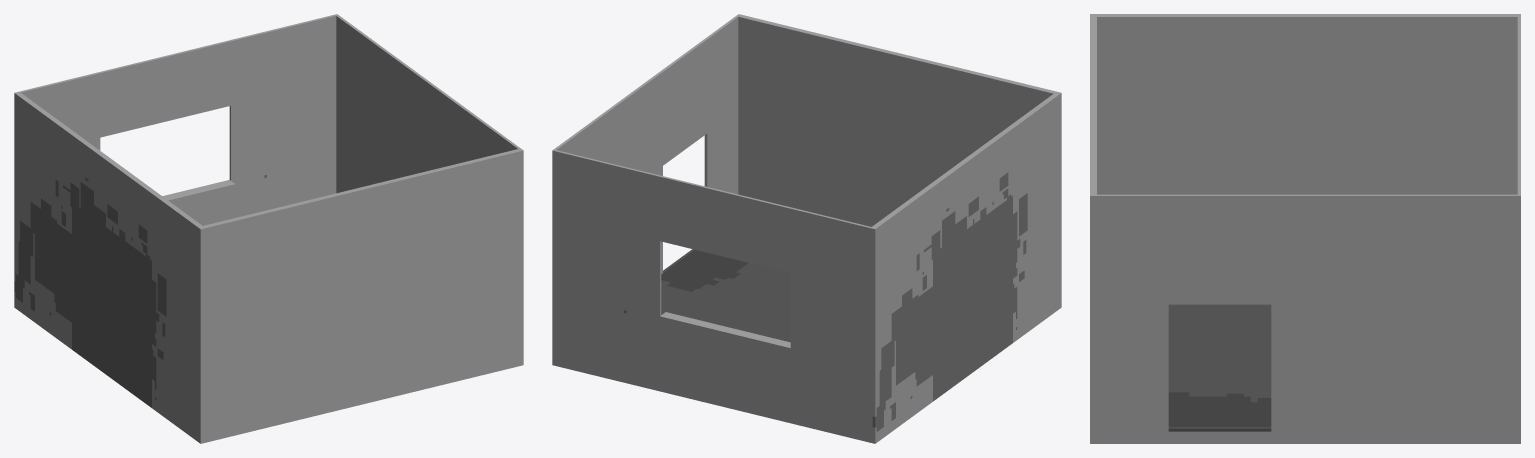
Rendered from 4x2 first (1)-1.obj.
3 renders of one model, left to right at view 1: azimuth 30°, elevation 25°; view 2: azimuth 150°, elevation 25°; view 3: azimuth 270°, elevation 25°, orthographic. The views are drawn at different scales.
Visible parts, largest first — view 1: 4x2 first (1)-1; view 2: 4x2 first (1)-1; view 3: 4x2 first (1)-1.
Part boxes in pixels (x1,y1,x2,y2): 4x2 first (1)-1: (14,14,523,443); 4x2 first (1)-1: (552,14,1061,443); 4x2 first (1)-1: (1090,14,1520,443).
Bounding box in the file's own units: 126 × 80 × 126.
1 material, 1 textured.
